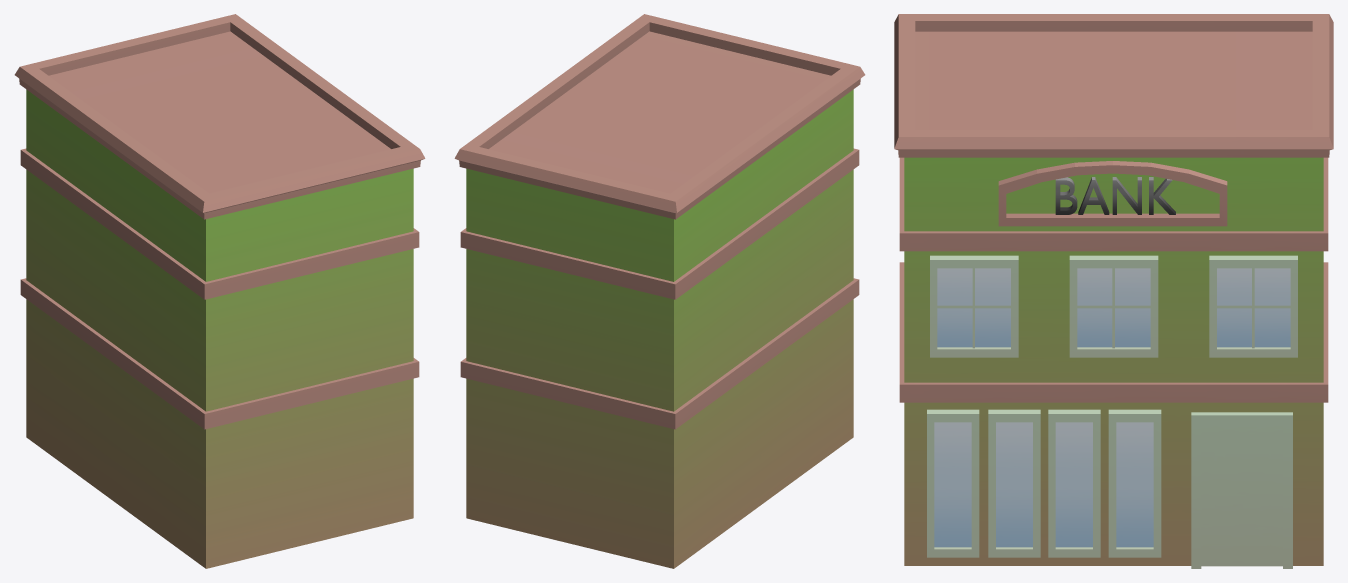
The model's file is Gebeude_3.glb.
3 renders of one model, left to right at view 1: azimuth 30°, elevation 25°; view 2: azimuth 150°, elevation 25°; view 3: azimuth 270°, elevation 25°, orthographic. The views are drawn at different scales.
Visible parts, largest first — view 1: Cube.002; view 2: Cube.002; view 3: Cube.002.
Part boxes in pixels (<box>): Cube.002: <box>14,14,425,568</box>; Cube.002: <box>454,14,865,568</box>; Cube.002: <box>894,14,1333,568</box>.
Bounding box in the file's own units: 4.12 × 6.54 × 6.03.
1 material, 1 textured.
